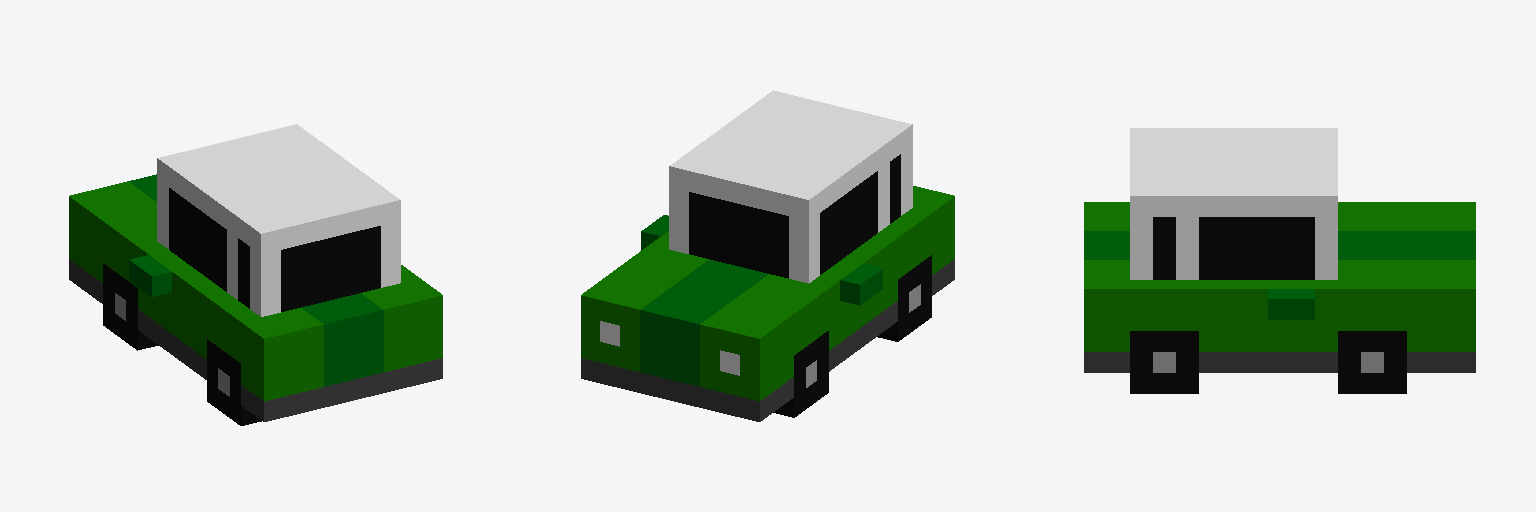
The picture shows the model from 3 angles: view 1: azimuth 30°, elevation 25°; view 2: azimuth 150°, elevation 25°; view 3: azimuth 270°, elevation 25°; orthographic projection.
Visible parts, largest first — view 1: car_short_3; view 2: car_short_3; view 3: car_short_3.
Part boxes in pixels (x1,y1,x2,y2): car_short_3: (69,124,442,425); car_short_3: (581,90,954,421); car_short_3: (1084,128,1475,393).
Size of the model in its own units: 11 by 9 by 17.
1 materials, 1 textured.